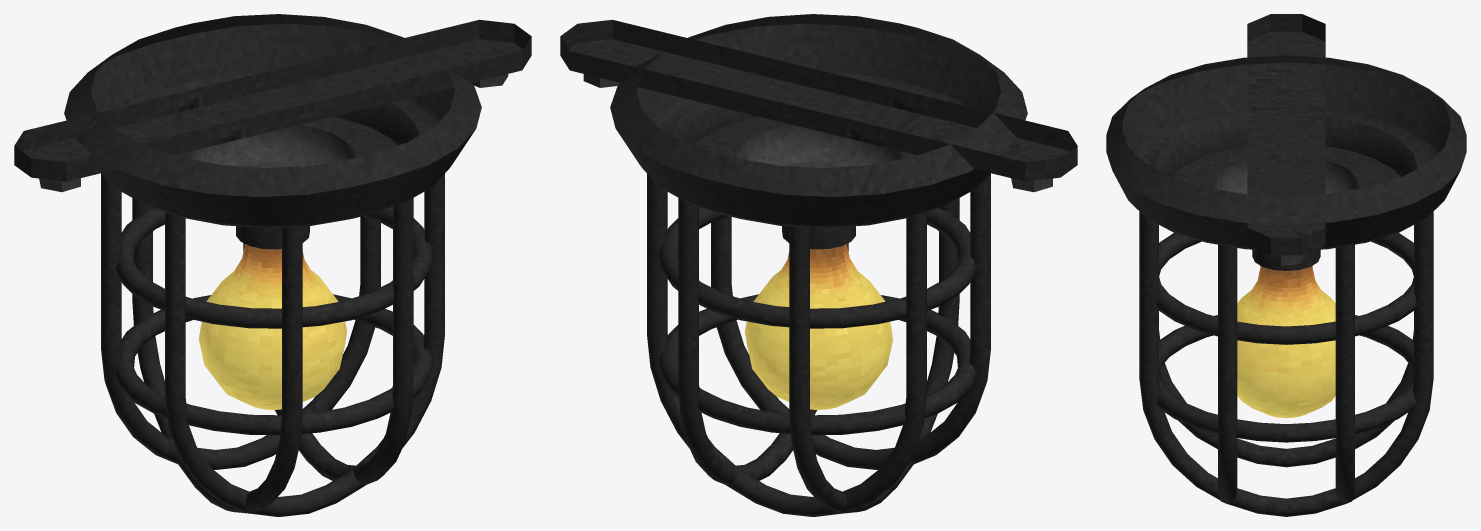
Rendered from lamp_0.glb.
The picture shows the model from 3 angles, left to right: view 1: azimuth 30°, elevation 25°; view 2: azimuth 150°, elevation 25°; view 3: azimuth 270°, elevation 25°; orthographic projection. The views are drawn at different scales.
Parts seen in each view (by area): view 1: lamp_0; view 2: lamp_0; view 3: lamp_0.
Boxes of the visible parts, left/top/right/bottom form: lamp_0: left=14, top=14, right=531, bottom=516; lamp_0: left=560, top=14, right=1077, bottom=516; lamp_0: left=1106, top=14, right=1466, bottom=516.
Bounding box in the file's own units: 0.27 × 0.206 × 0.1839.
3 materials, 3 textured.
